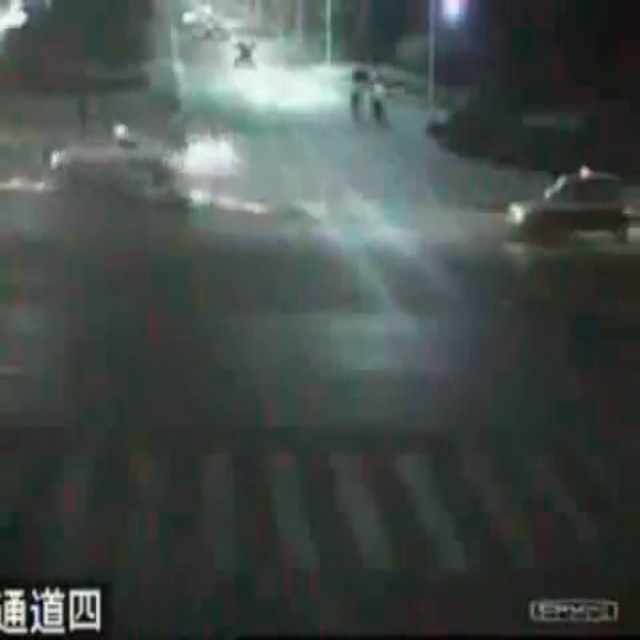acc: (35, 124, 220, 214)
